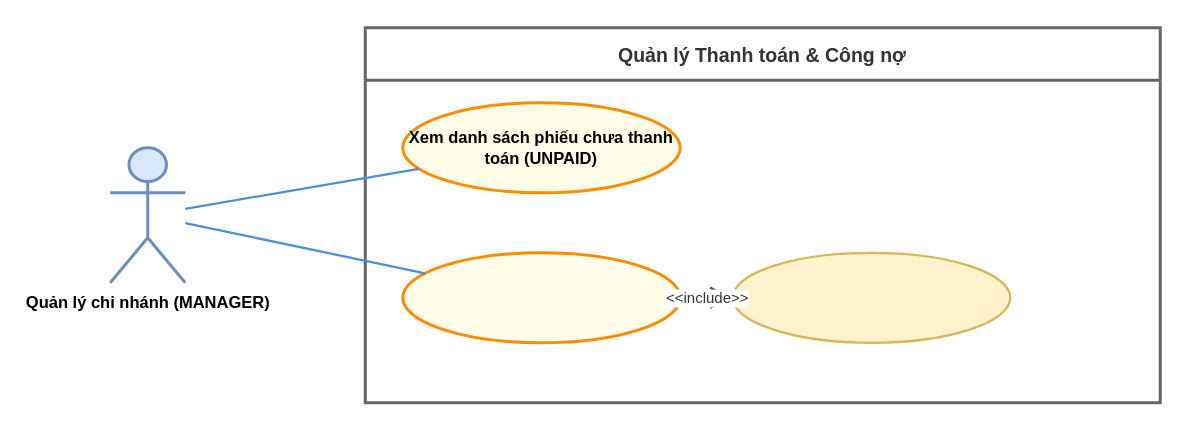
The diagram is 1188 pixels wide and 429 high, and some of its shapes have lost their labels. Here are the shapes that lost their labels. From the top down, the centre of each, then its label:
At point (540, 297): "Thực hiện thanh toán (UNPAID → PAID)".
At point (871, 297): "Giảm trừ công nợ NCC hoặc KH tương ứng".
